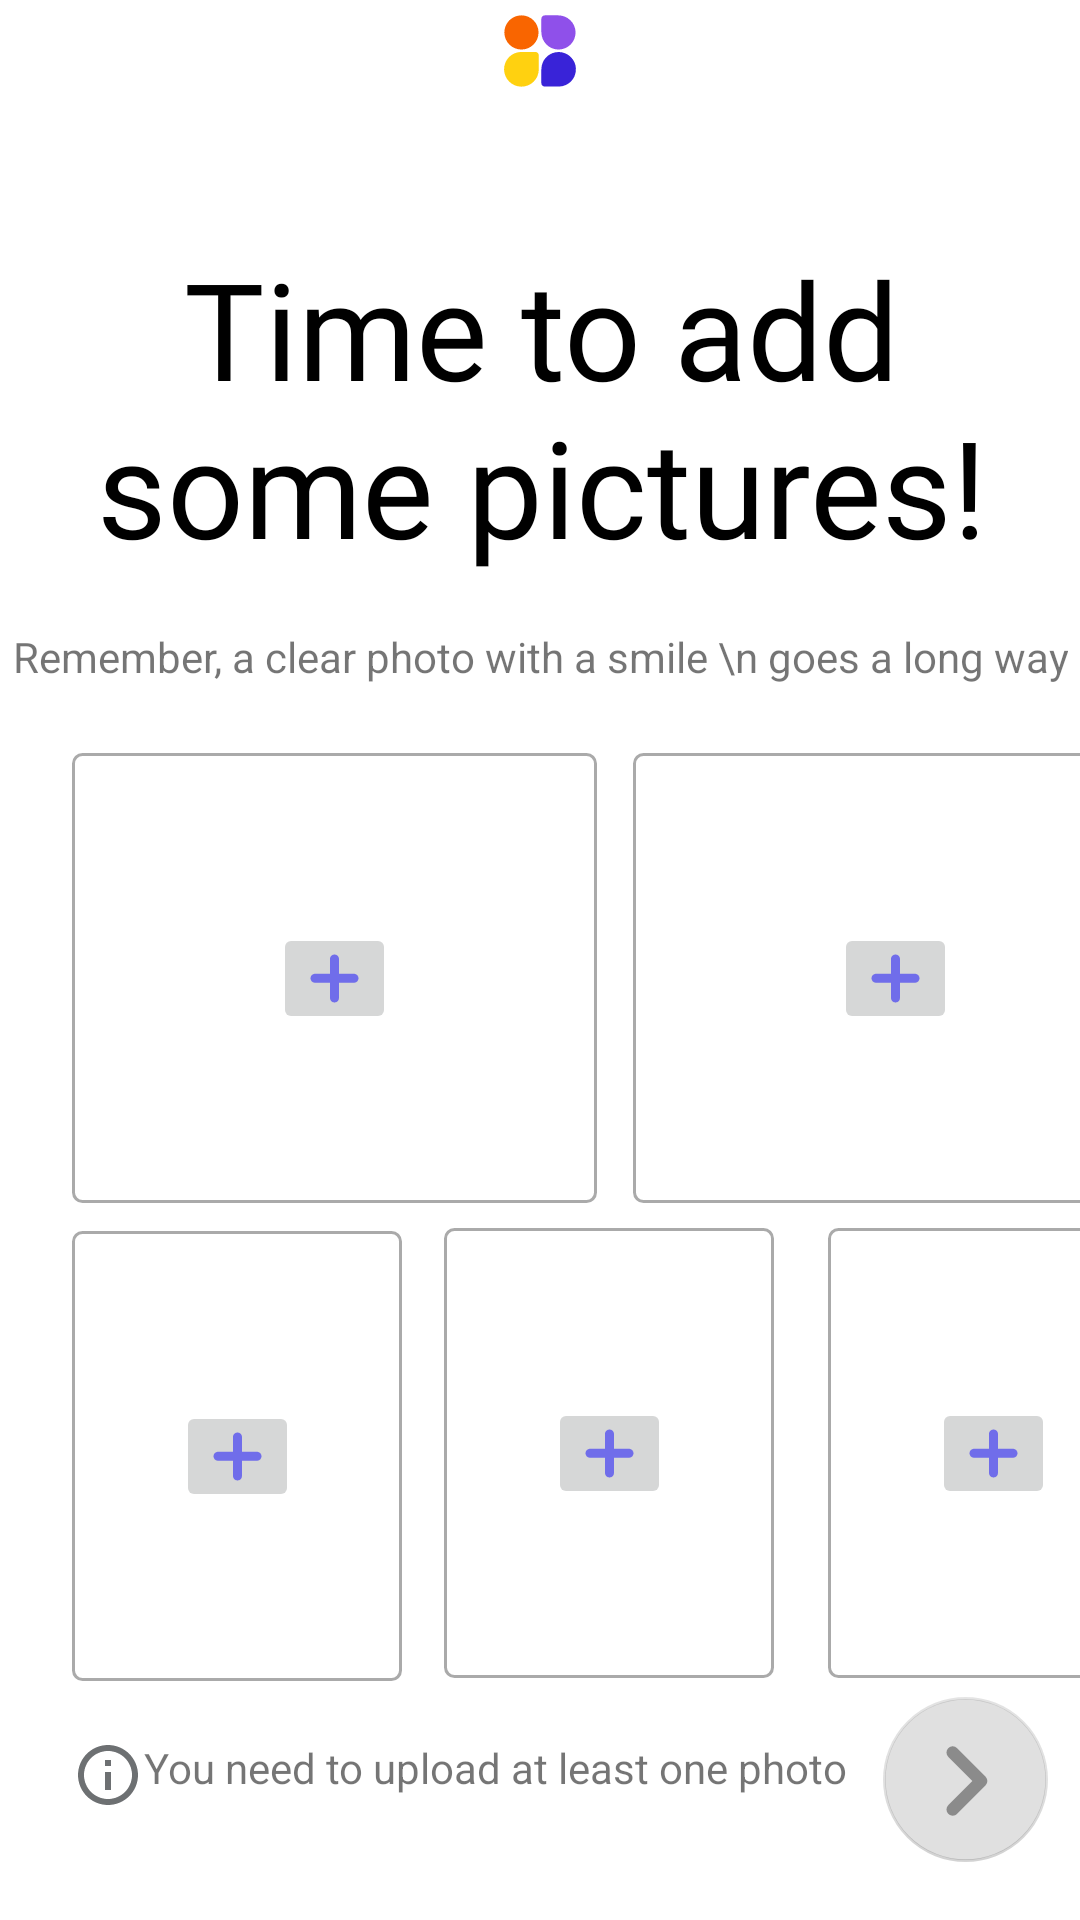

Named icons in this screenshot (1080px×1920px) and their centers, [x,y]:
Next Activity move: [965,1779]
plus: [334,978], [895,978], [609,1453], [993,1453], [237,1456]
